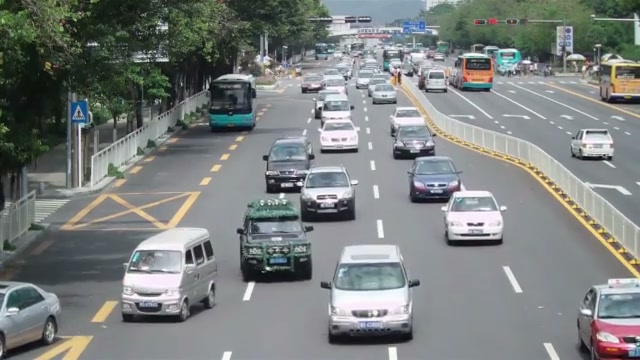bus: (208, 73, 256, 132), (599, 58, 640, 103), (453, 53, 495, 91), (487, 47, 521, 75)
car: (321, 243, 421, 342), (120, 226, 218, 322), (576, 278, 640, 359), (0, 280, 62, 358), (442, 189, 507, 246), (299, 164, 358, 221), (262, 137, 315, 193), (406, 156, 466, 203), (392, 124, 436, 159), (569, 128, 615, 160), (318, 119, 359, 153), (388, 106, 426, 137), (368, 82, 398, 104), (300, 73, 327, 93)
truck: (120, 226, 218, 322), (236, 196, 314, 282)
